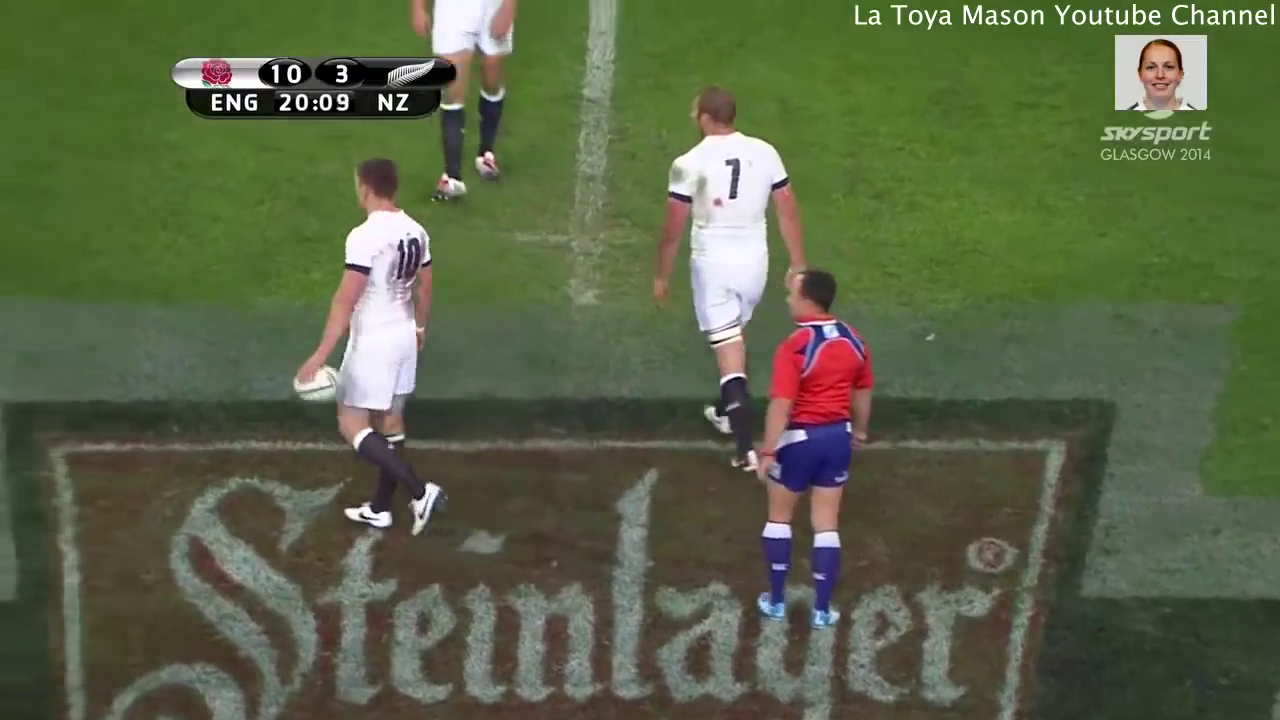person: (288, 151, 452, 548), (658, 80, 805, 472), (734, 256, 877, 623), (400, 1, 513, 200)
